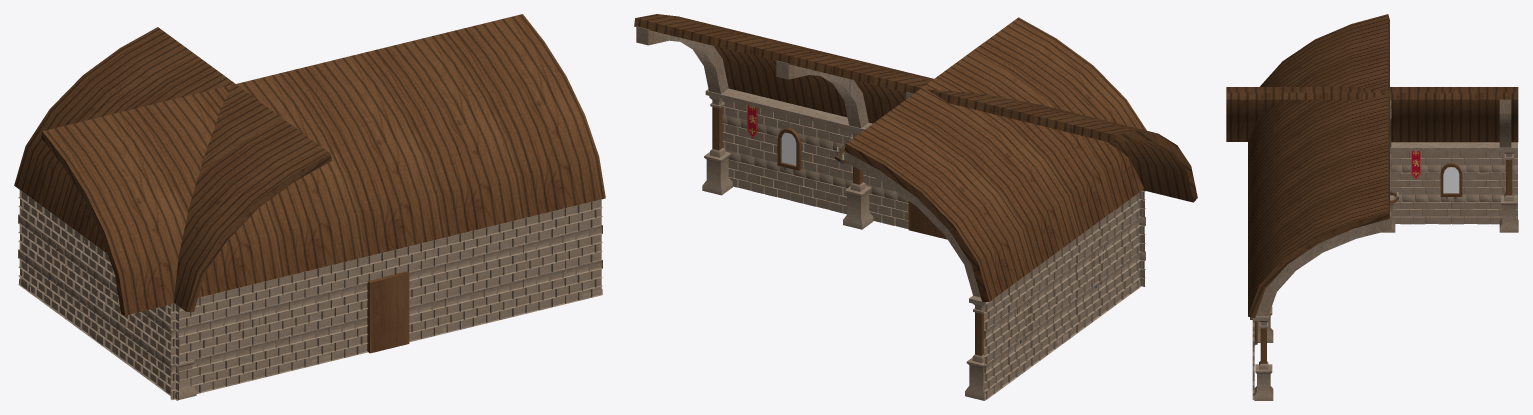
The model's file is Room.fbx.
3 renders of one model, left to right at view 1: azimuth 30°, elevation 25°; view 2: azimuth 150°, elevation 25°; view 3: azimuth 270°, elevation 25°, orthographic. The views are drawn at different scales.
Parts seen in each view (by area): view 1: M_Door_MedievalDiningRoom_FinalScene2:blinn3_0; view 2: M_Door_MedievalDiningRoom_FinalScene2:blinn3_0; view 3: M_Door_MedievalDiningRoom_FinalScene2:blinn3_0.
Part boxes in pixels (x1,y1,x2,y2): M_Door_MedievalDiningRoom_FinalScene2:blinn3_0: (14,14,605,400); M_Door_MedievalDiningRoom_FinalScene2:blinn3_0: (634,14,1197,400); M_Door_MedievalDiningRoom_FinalScene2:blinn3_0: (1226,14,1518,400).
Bounding box in the file's own units: 445 × 198 × 277.
Materials: 5 (5 with a texture image).
